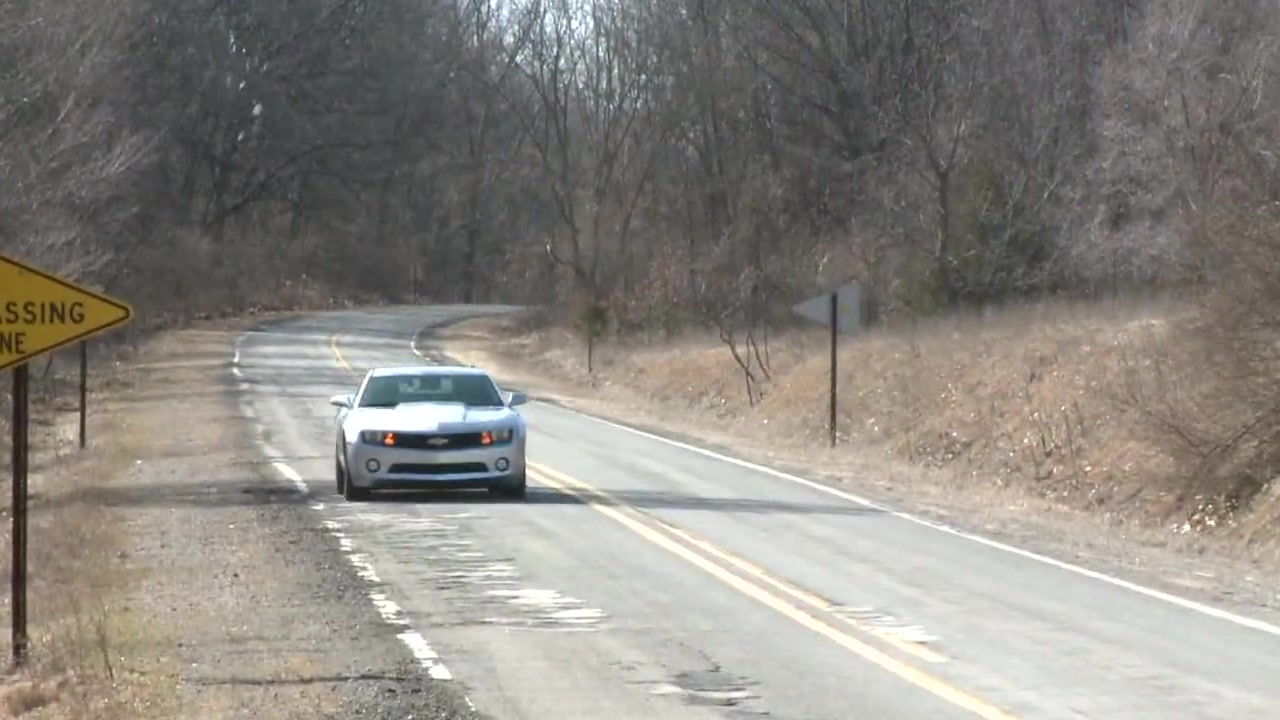car: (332, 362, 532, 502)
